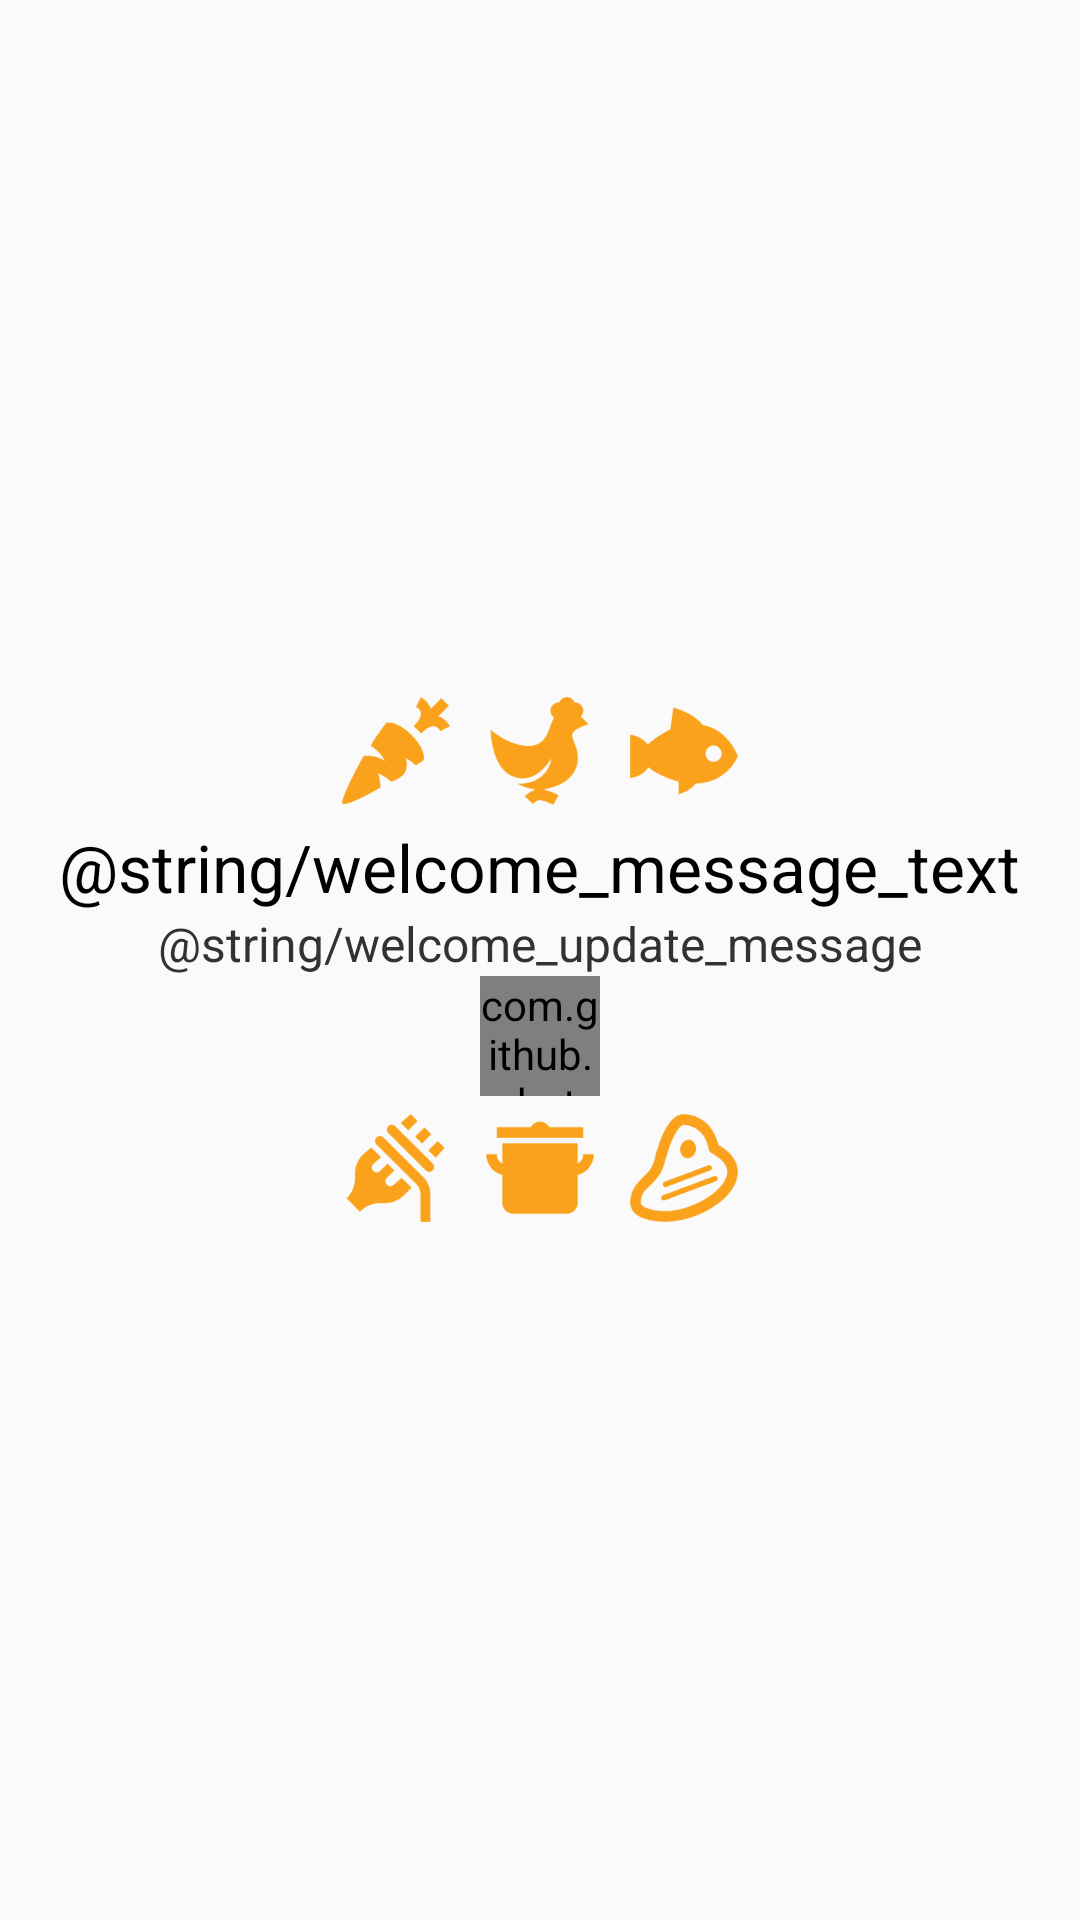

Icon bounding boxes for this 1080px×1920px phone screenshot, format (x1, y1, x2, y2):
carrot: (342, 697, 450, 805)
chicken: (490, 697, 589, 805)
fish: (630, 707, 738, 795)
pasta: (346, 1114, 445, 1222)
pot: (486, 1121, 594, 1214)
steak: (630, 1114, 738, 1222)
